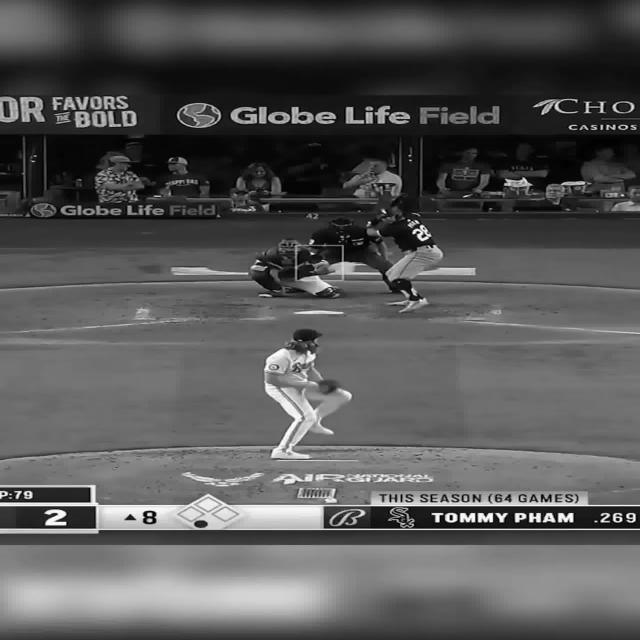baseball_glove: (275, 266, 307, 280), (317, 379, 340, 394)
shoe: (397, 297, 429, 313), (269, 448, 311, 459), (315, 286, 343, 298), (308, 424, 334, 435), (257, 288, 281, 297), (386, 298, 410, 306)
